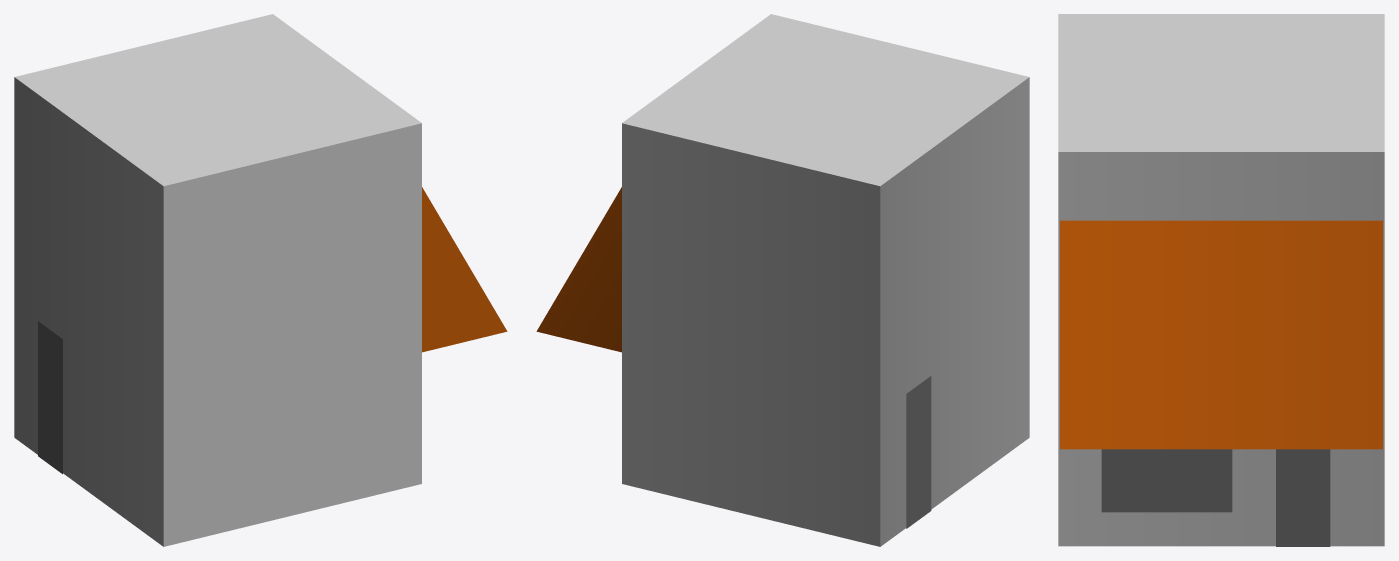
Rendered from strip-1-high.glb.
The picture shows the model from 3 angles, left to right: view 1: azimuth 30°, elevation 25°; view 2: azimuth 150°, elevation 25°; view 3: azimuth 270°, elevation 25°; orthographic projection. The views are drawn at different scales.
Visible parts, largest first — view 1: mesh0; view 2: mesh0; view 3: mesh0.
Boxes of the visible parts, x1,y1,x2,y2 form: mesh0: (14, 14, 507, 546); mesh0: (536, 14, 1029, 546); mesh0: (1058, 14, 1384, 546).
Size of the model in its own units: 0.803 by 0.8 by 0.6.
